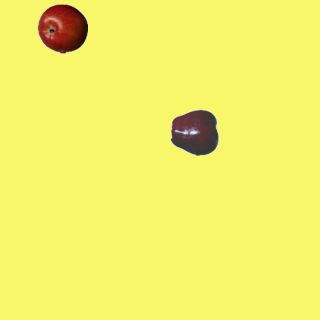Apple Braeburn: (37, 3, 87, 53)
Apple Red Delicious: (170, 107, 220, 157)
